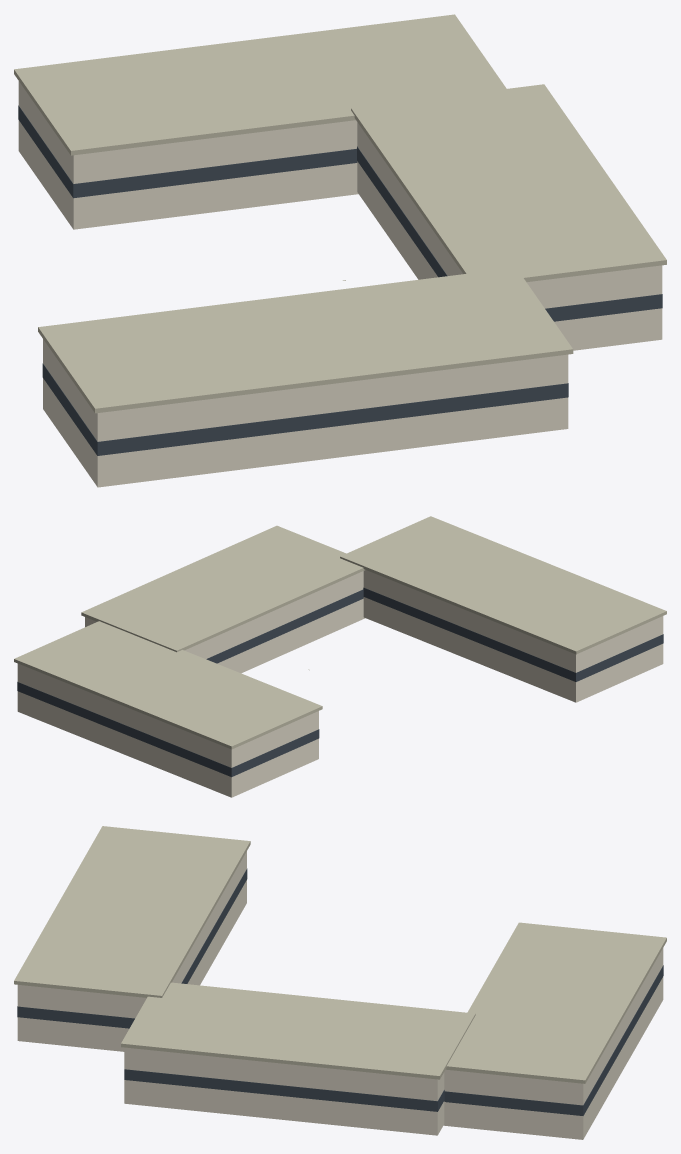
File: nd_complex7340.glb
3 views of the same model, one above another, from view 1: azimuth 30°, elevation 25°; view 2: azimuth 150°, elevation 25°; view 3: azimuth 270°, elevation 25° (orthographic). The views are drawn at different scales.
Visible parts, largest first — view 1: nd_complex7340_lod0; view 2: nd_complex7340_lod0; view 3: nd_complex7340_lod0.
Boxes of the visible parts, x1,y1,x2,y2 form: nd_complex7340_lod0: (14,14,666,487); nd_complex7340_lod0: (14,516,666,797); nd_complex7340_lod0: (14,826,666,1139).
Size of what is drawn, in the model's own units: 60.73 by 7.33 by 66.87.
